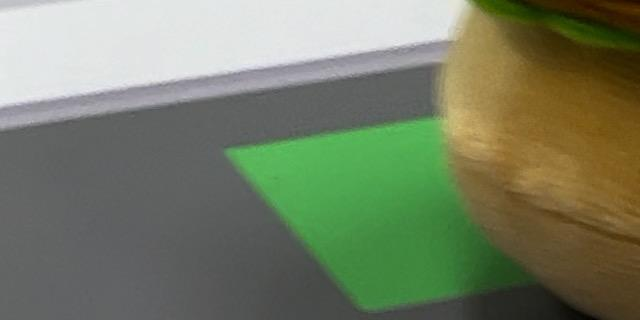burger: (385, 0, 640, 320)
